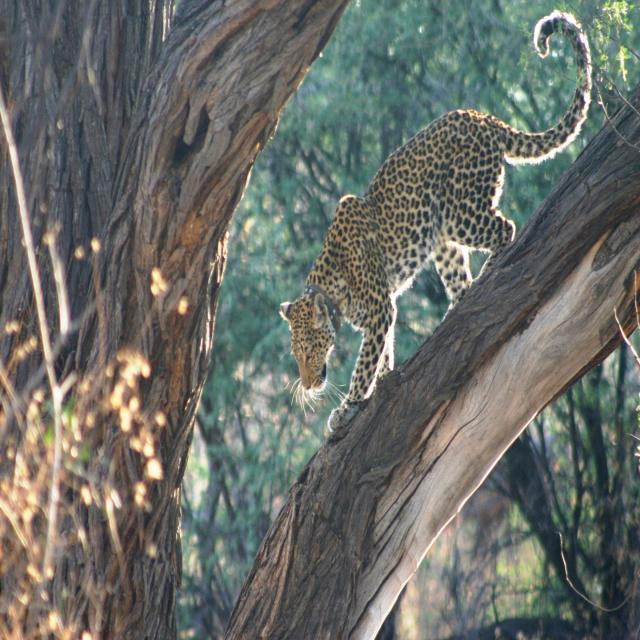Leopard: (278, 3, 618, 457)
